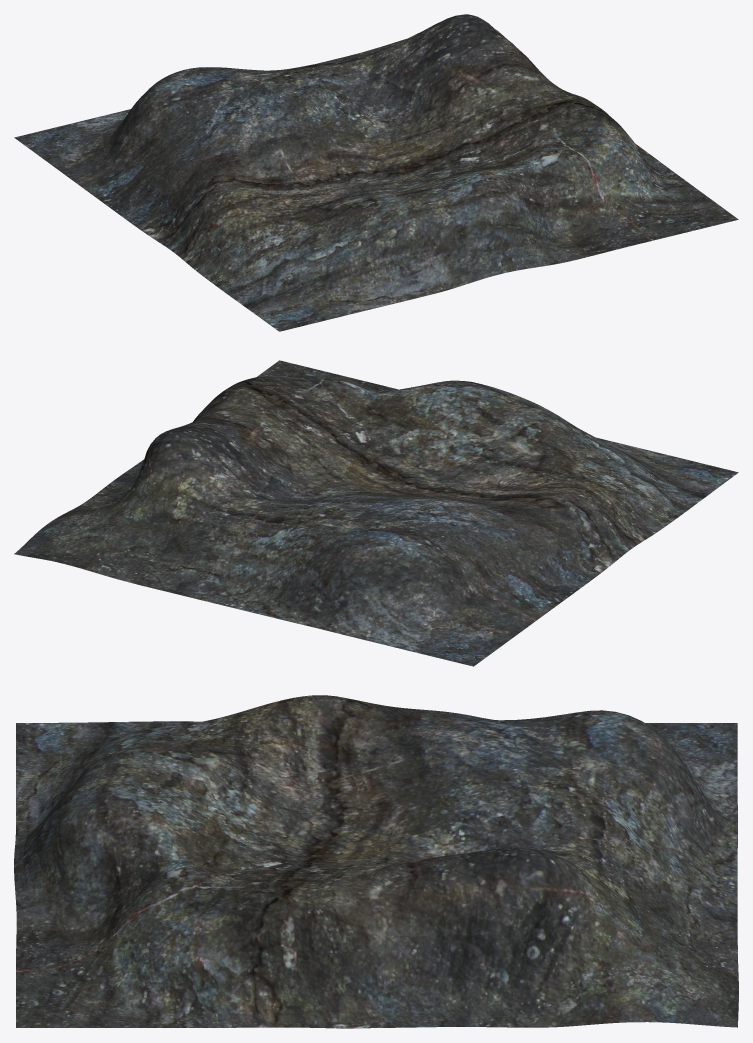
File: landscape attempt.obj
3 renders of one model, top to bottom at view 1: azimuth 30°, elevation 25°; view 2: azimuth 150°, elevation 25°; view 3: azimuth 270°, elevation 25°, orthographic. The views are drawn at different scales.
Parts seen in each view (by area): view 1: Landscape; view 2: Landscape; view 3: Landscape.
Part boxes in pixels (box(x1,y1,x2,y2)): Landscape: box(14, 14, 738, 331); Landscape: box(14, 360, 738, 666); Landscape: box(14, 695, 738, 1028).
Bounding box in the file's own units: 60.3 × 10.71 × 60.27.
Materials: 1 (1 with a texture image).
